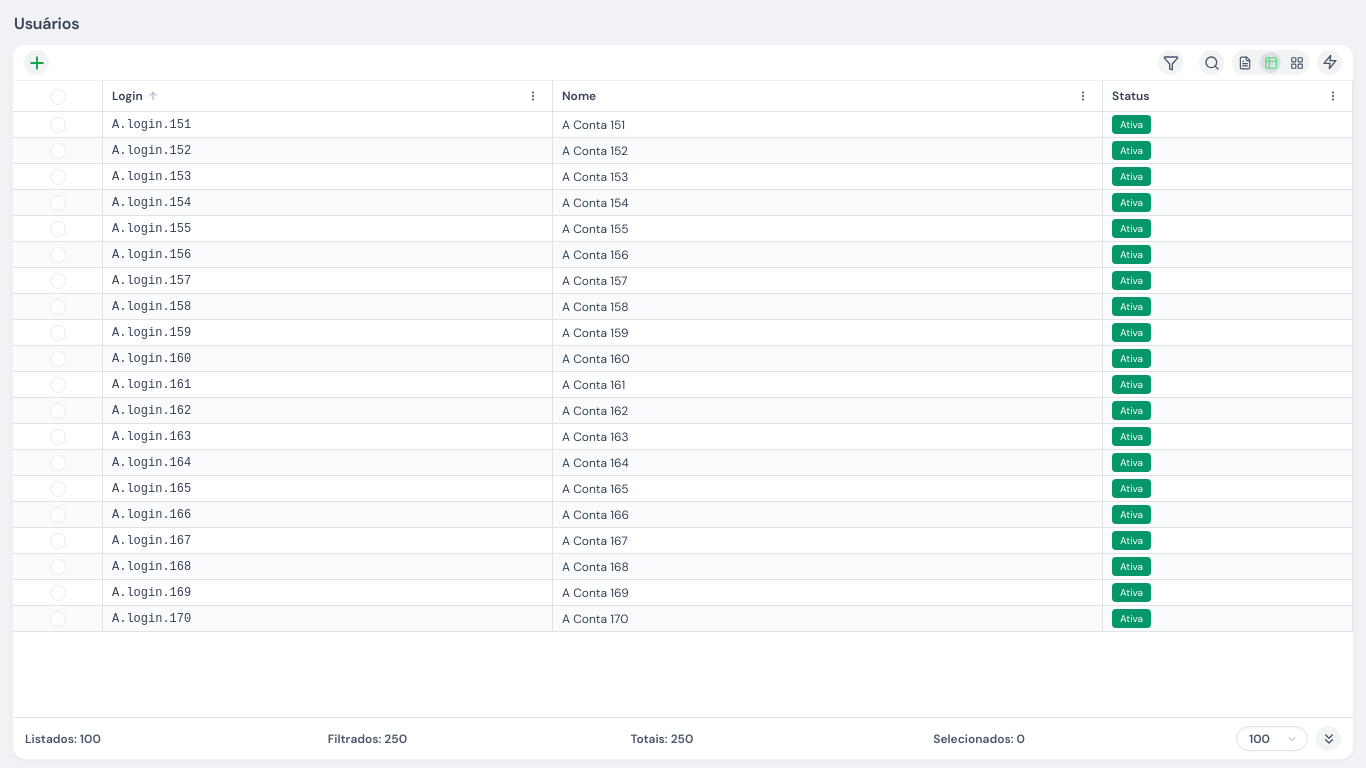
Test case: SCALE-01 — /Usuarios paginado no servidor › busca aplicada vai ao servidor e encontra conta fora da janela carregada
This screenshot has width=1366, height=768.
Click the button named "Abrir pesquisa": (1212, 62) 1199,50 -> 1224,75
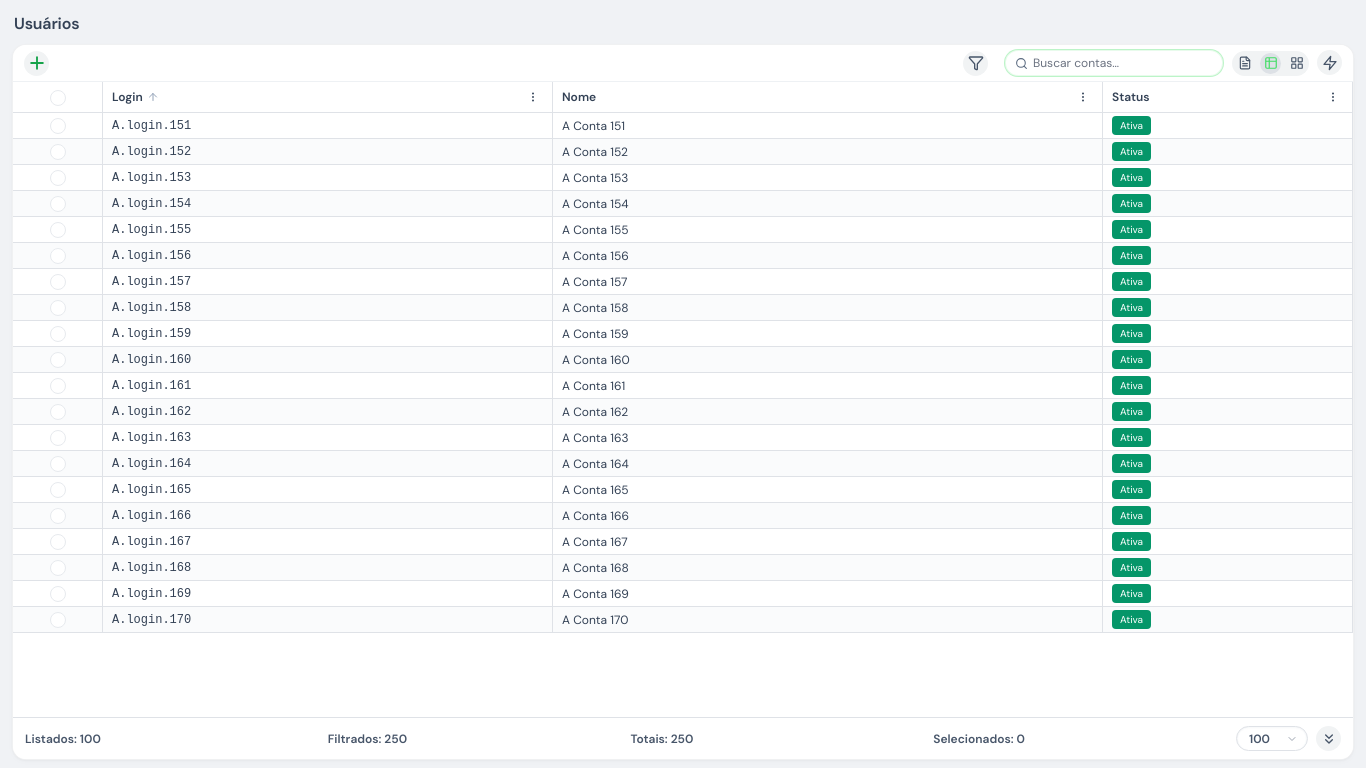
In the field with placeholder "Buscar contas…": (1123, 63) 1033,54 -> 1213,72, type "login.37"
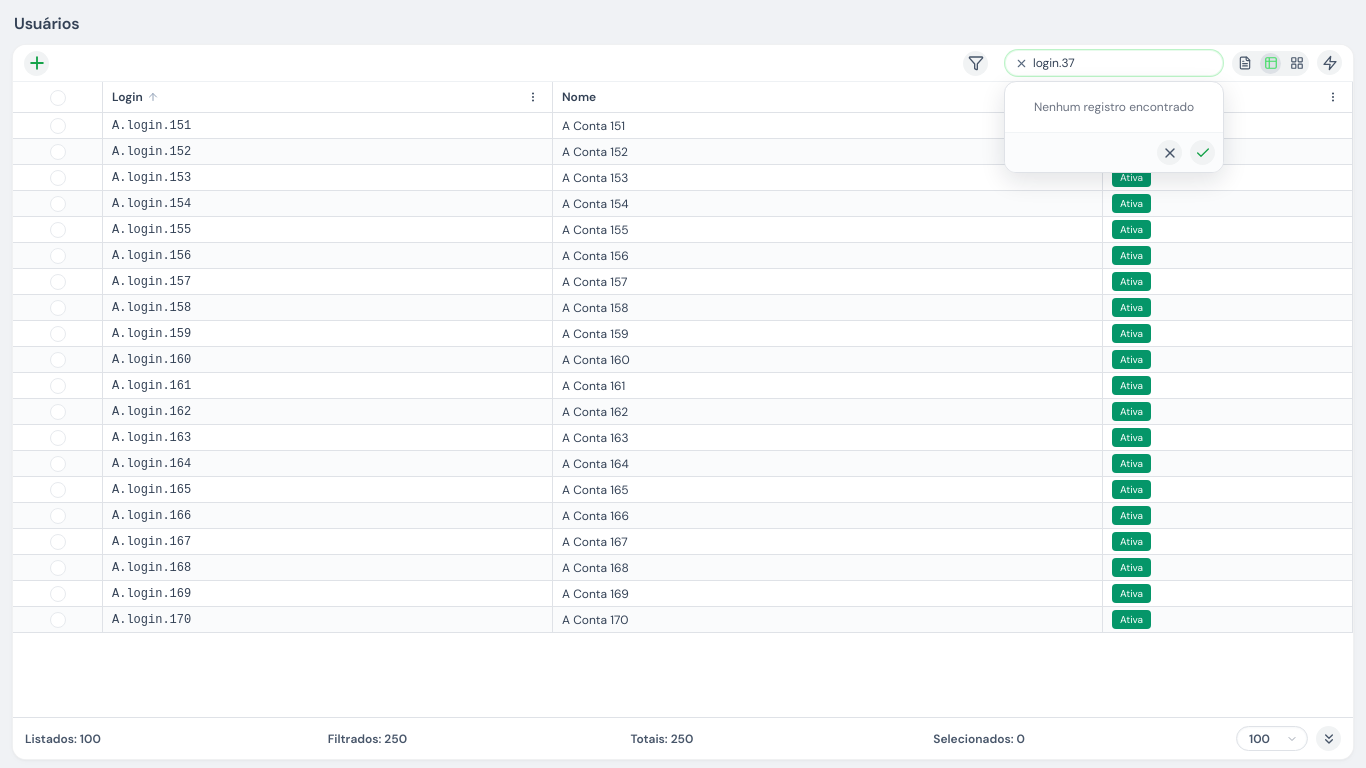
Press Enter in the field with placeholder "Buscar contas…", box 1033,54 -> 1213,72
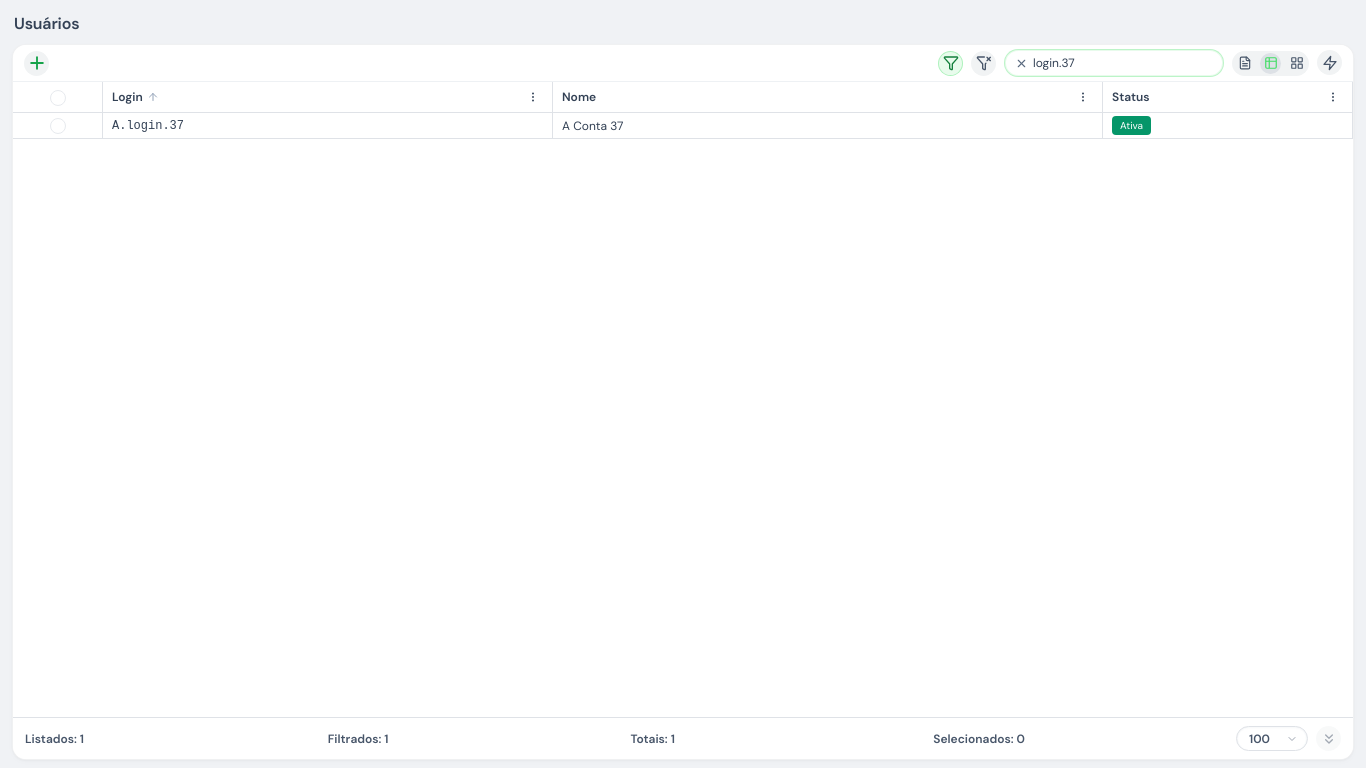
Check: the text "A Conta 37" is shown, box 553,113 -> 1103,139
